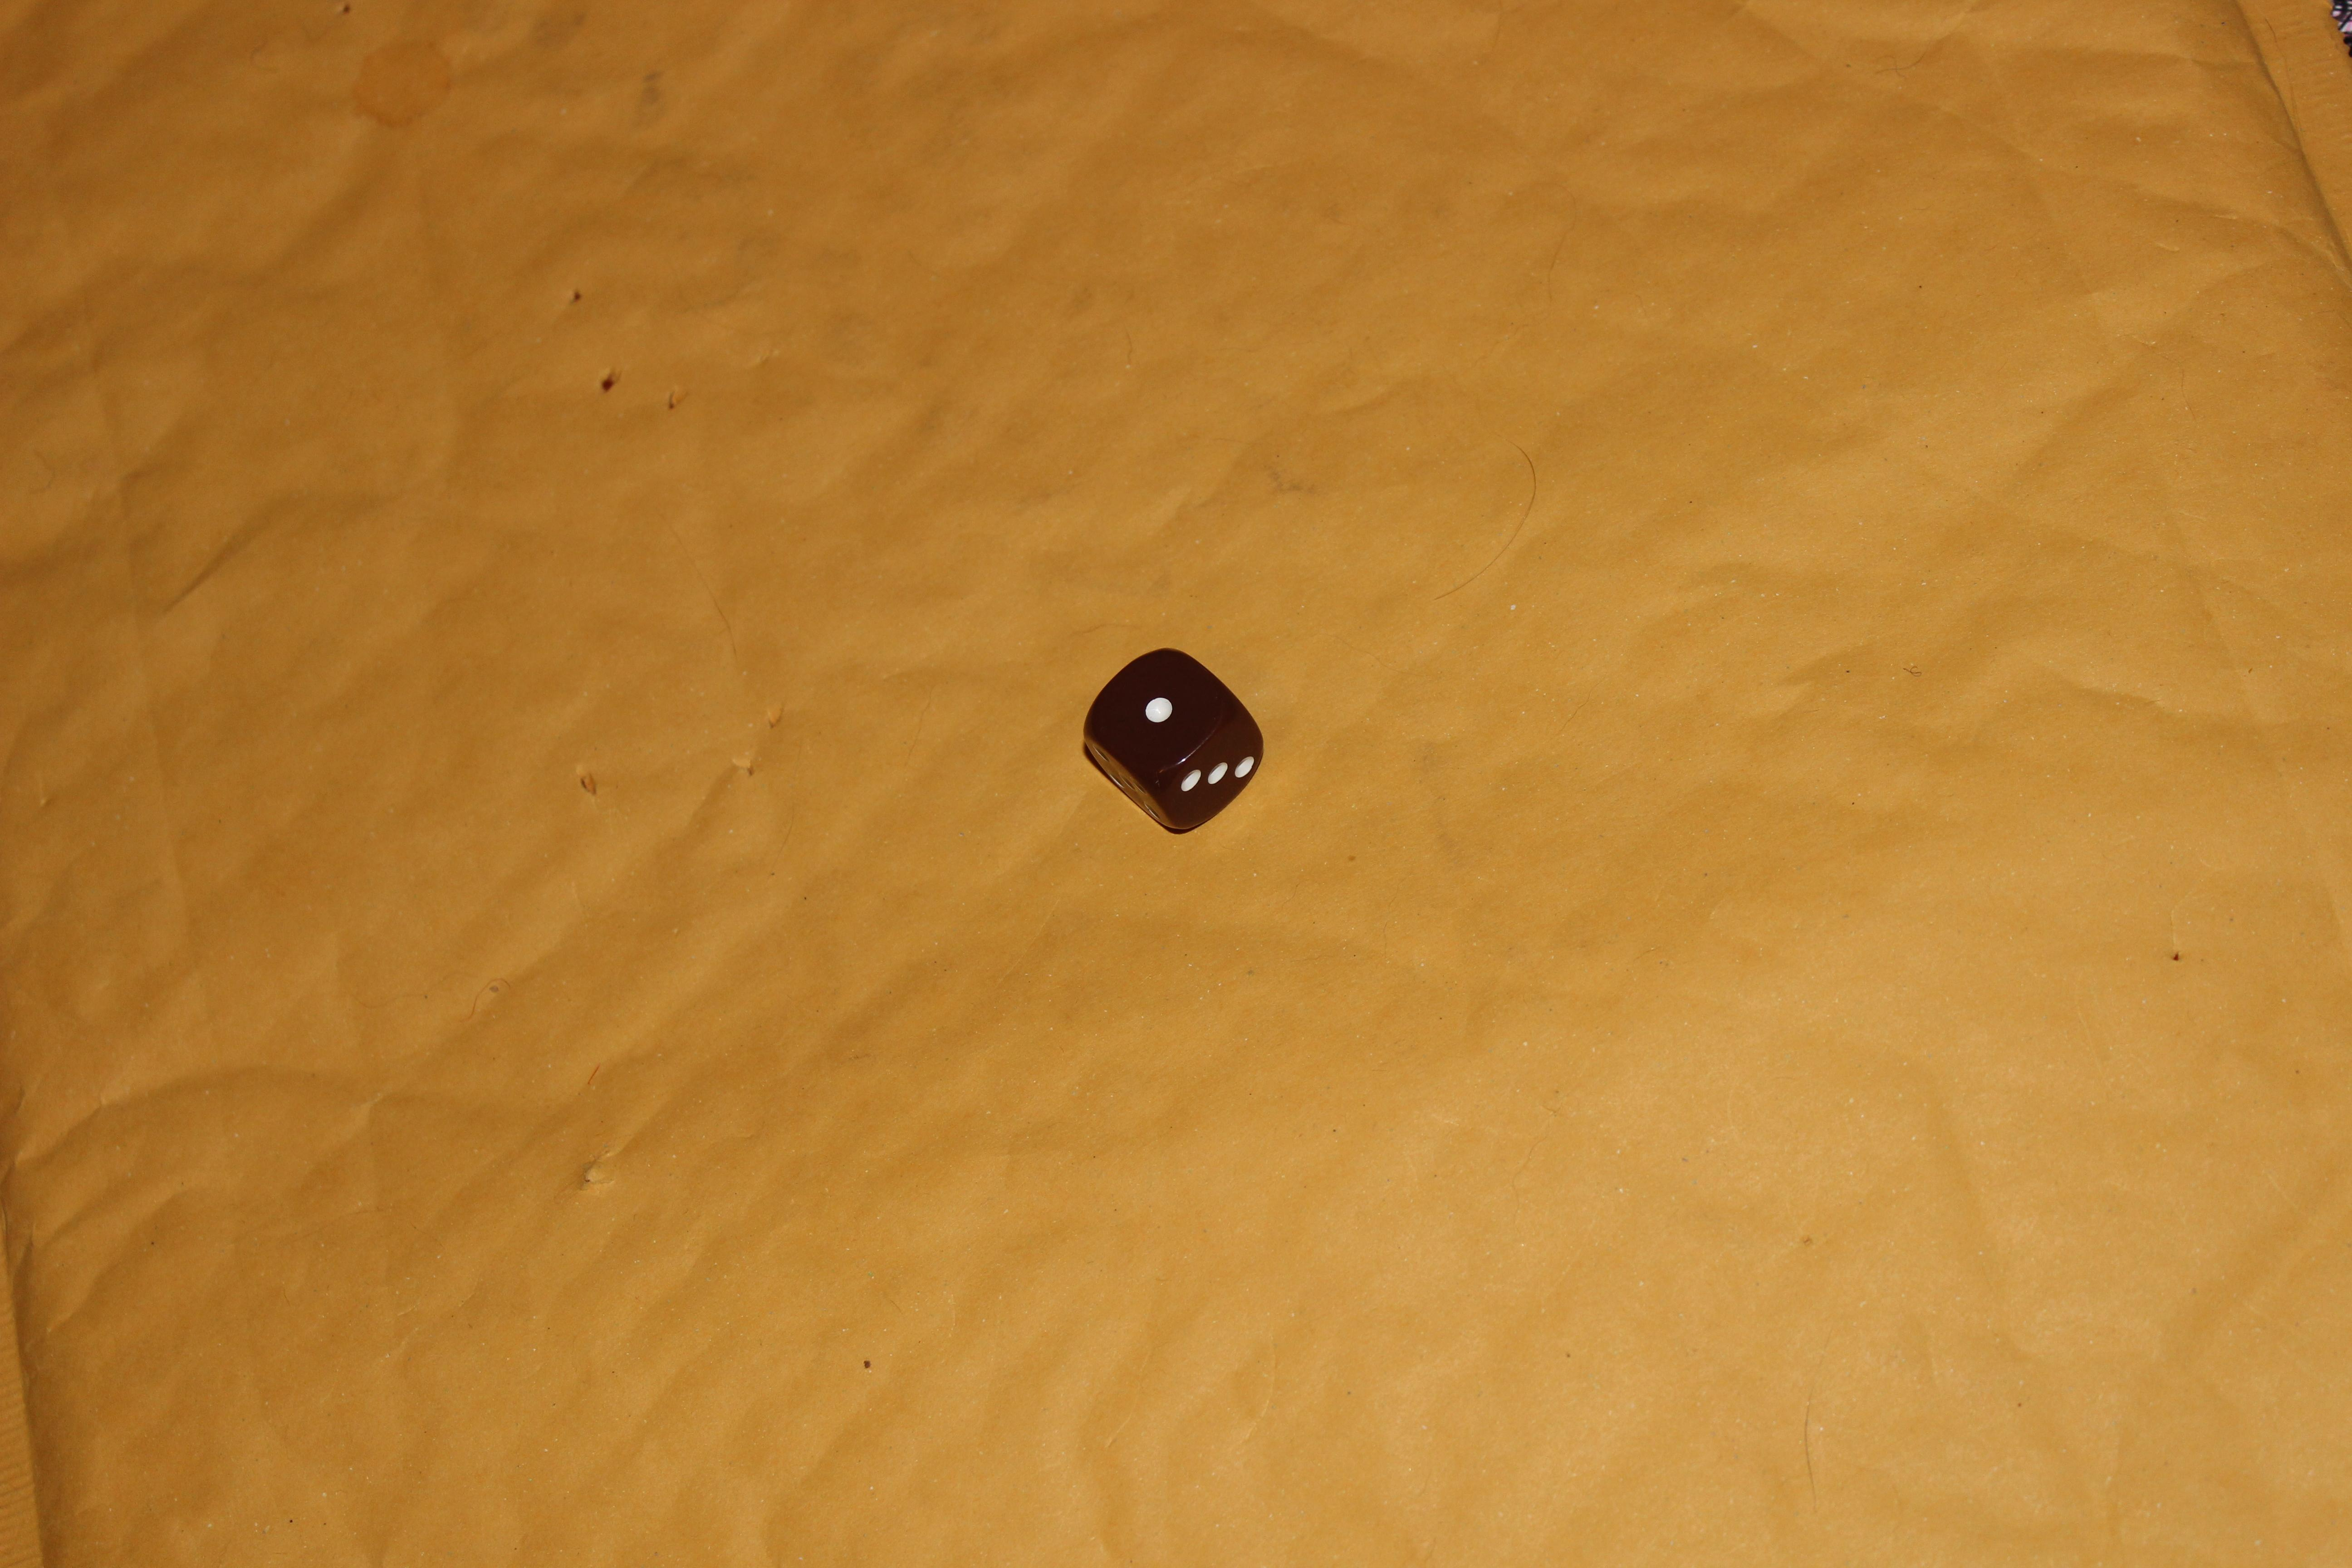brownDie: (1050, 621, 1304, 865)
